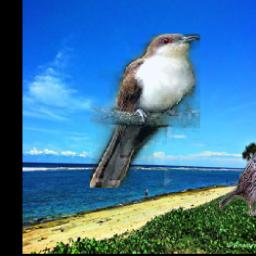Cuckoo: (91, 34, 201, 188)
Sparrow: (219, 153, 256, 217)
